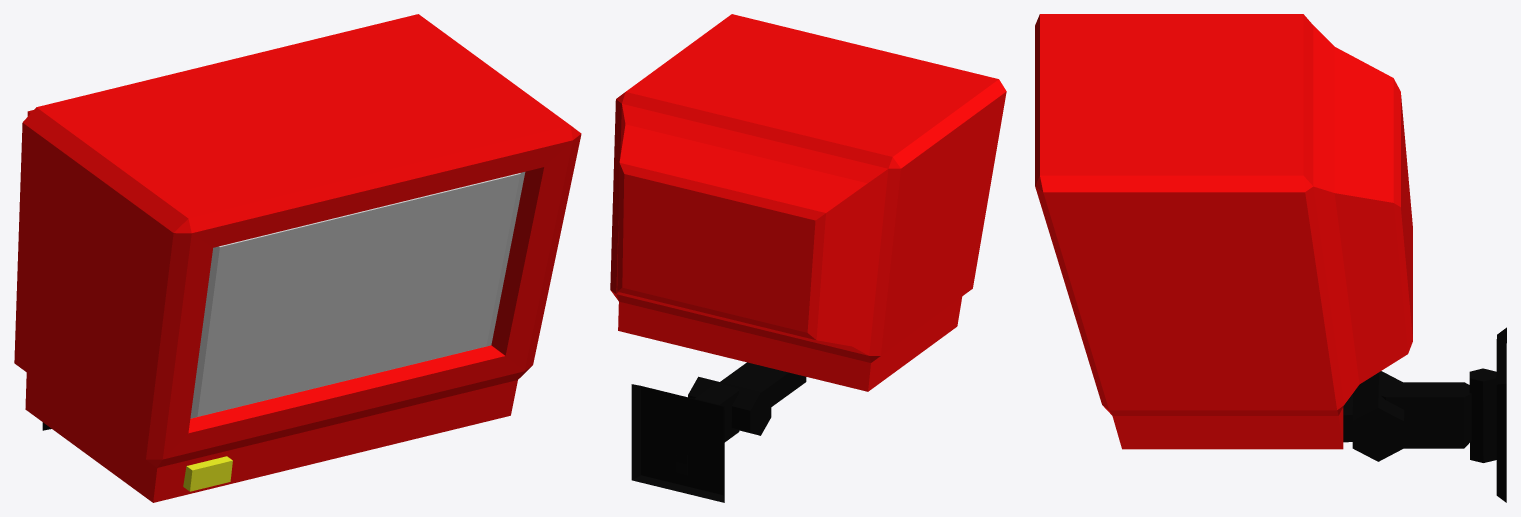
Rendered from WallTV.fbx.
3 views of the same model, side by side, from view 1: azimuth 30°, elevation 25°; view 2: azimuth 150°, elevation 25°; view 3: azimuth 270°, elevation 25° (orthographic). The views are drawn at different scales.
Parts seen in each view (by area): view 1: WallTV_monitor; view 2: WallTV_monitor, Wall_TV, WallTV_Bracket_02, WallTV_Bracket_01; view 3: WallTV_monitor, WallTV_Bracket_01, WallTV_Bracket_02, Wall_TV.
Part boxes in pixels (<box>): WallTV_monitor: <box>14,14,581,502</box>; WallTV_monitor: <box>610,14,1006,391</box>; Wall_TV: <box>631,384,724,502</box>; WallTV_Bracket_02: <box>688,362,806,435</box>; WallTV_Bracket_01: <box>676,383,739,475</box>; WallTV_monitor: <box>1035,14,1412,449</box>; WallTV_Bracket_01: <box>1380,368,1496,462</box>; WallTV_Bracket_02: <box>1343,371,1404,461</box>; Wall_TV: <box>1496,327,1506,502</box>.
Size of the model in its own units: 0.3904 by 0.4016 by 0.4511.
